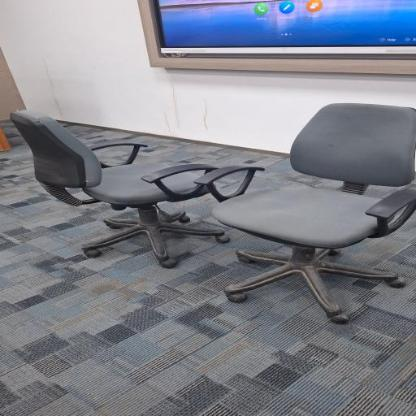chair: (188, 94, 416, 325), (0, 92, 234, 275)
